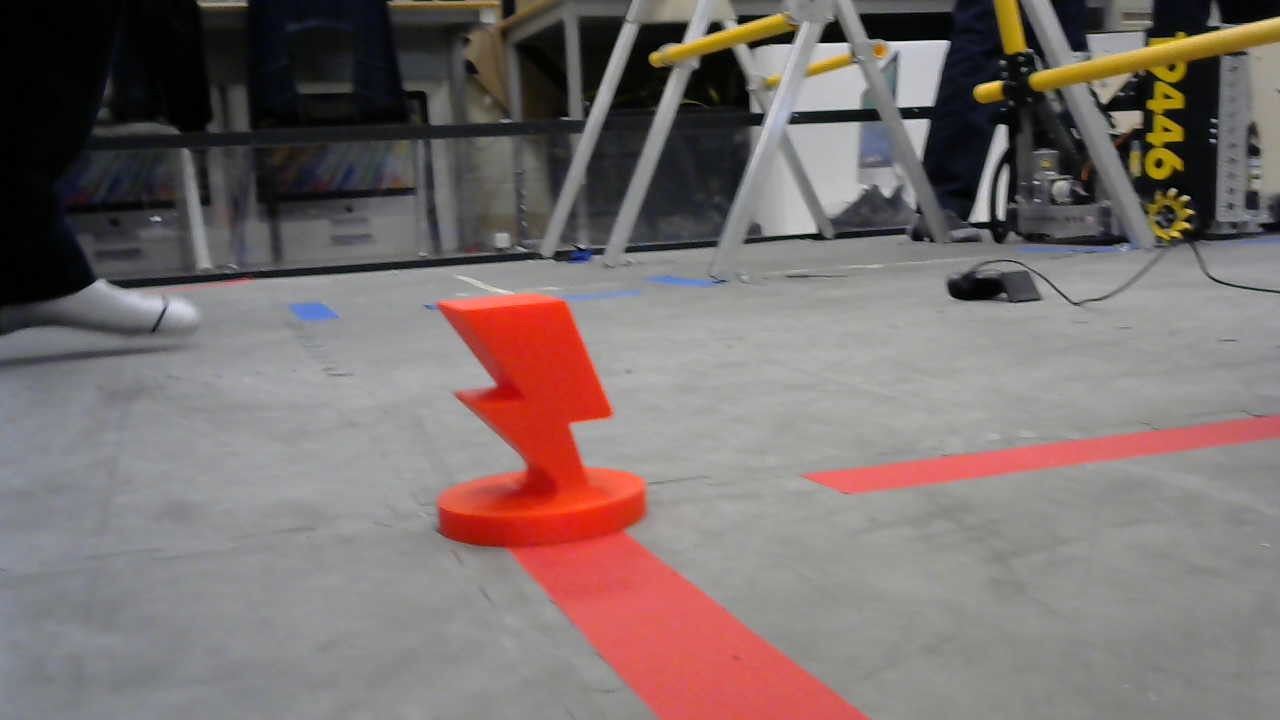redobject: (435, 276, 659, 566)
